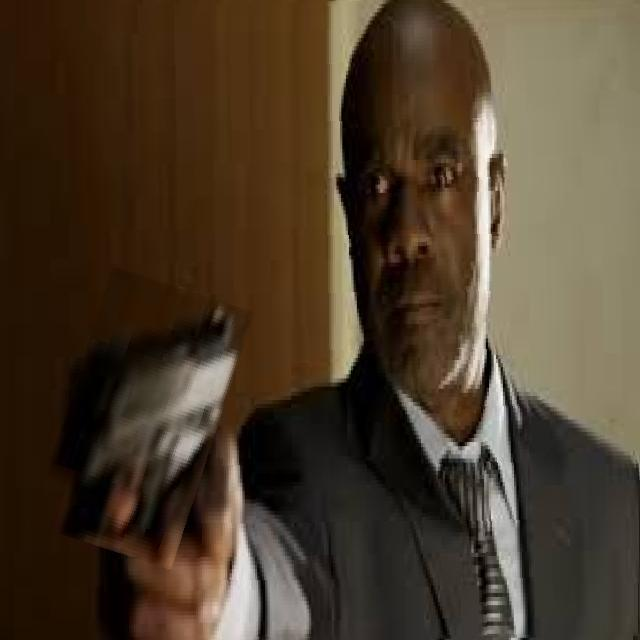Gun_Holder: (6, 296, 246, 583)
Person: (146, 0, 640, 640)
